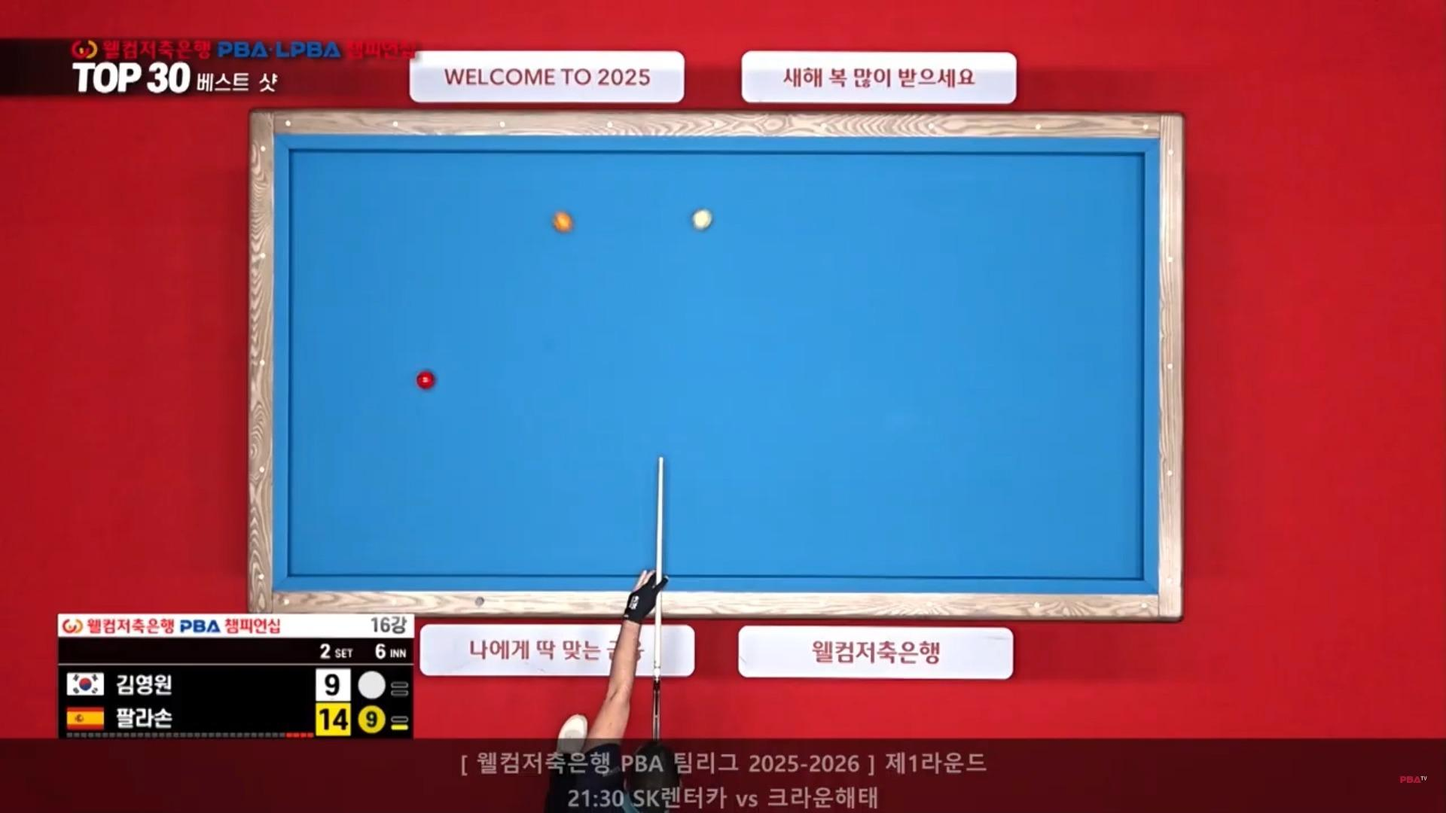Red: (413, 370, 437, 389)
White: (693, 210, 718, 231)
Yellow: (547, 210, 570, 230)
